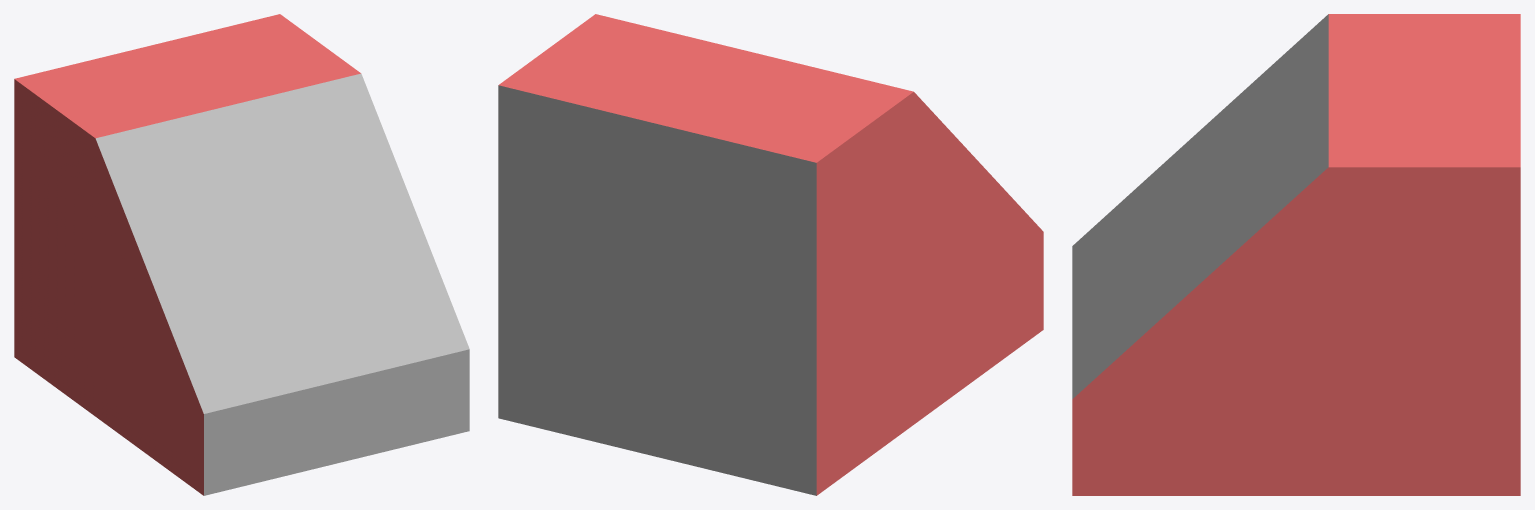
Rendered from tenkaizu2.glb.
The picture shows the model from 3 angles, left to right: view 1: azimuth 30°, elevation 25°; view 2: azimuth 150°, elevation 25°; view 3: azimuth 270°, elevation 25°; orthographic projection. The views are drawn at different scales.
Visible parts, largest first — view 1: tenkaizu2.SLDPRT; view 2: tenkaizu2.SLDPRT; view 3: tenkaizu2.SLDPRT.
Part boxes in pixels (left/top/right/bottom): tenkaizu2.SLDPRT: left=14, top=14, right=469, bottom=495; tenkaizu2.SLDPRT: left=498, top=14, right=1043, bottom=495; tenkaizu2.SLDPRT: left=1072, top=14, right=1520, bottom=495.
Bounding box in the file's own units: 0.017 × 0.017 × 0.021.
